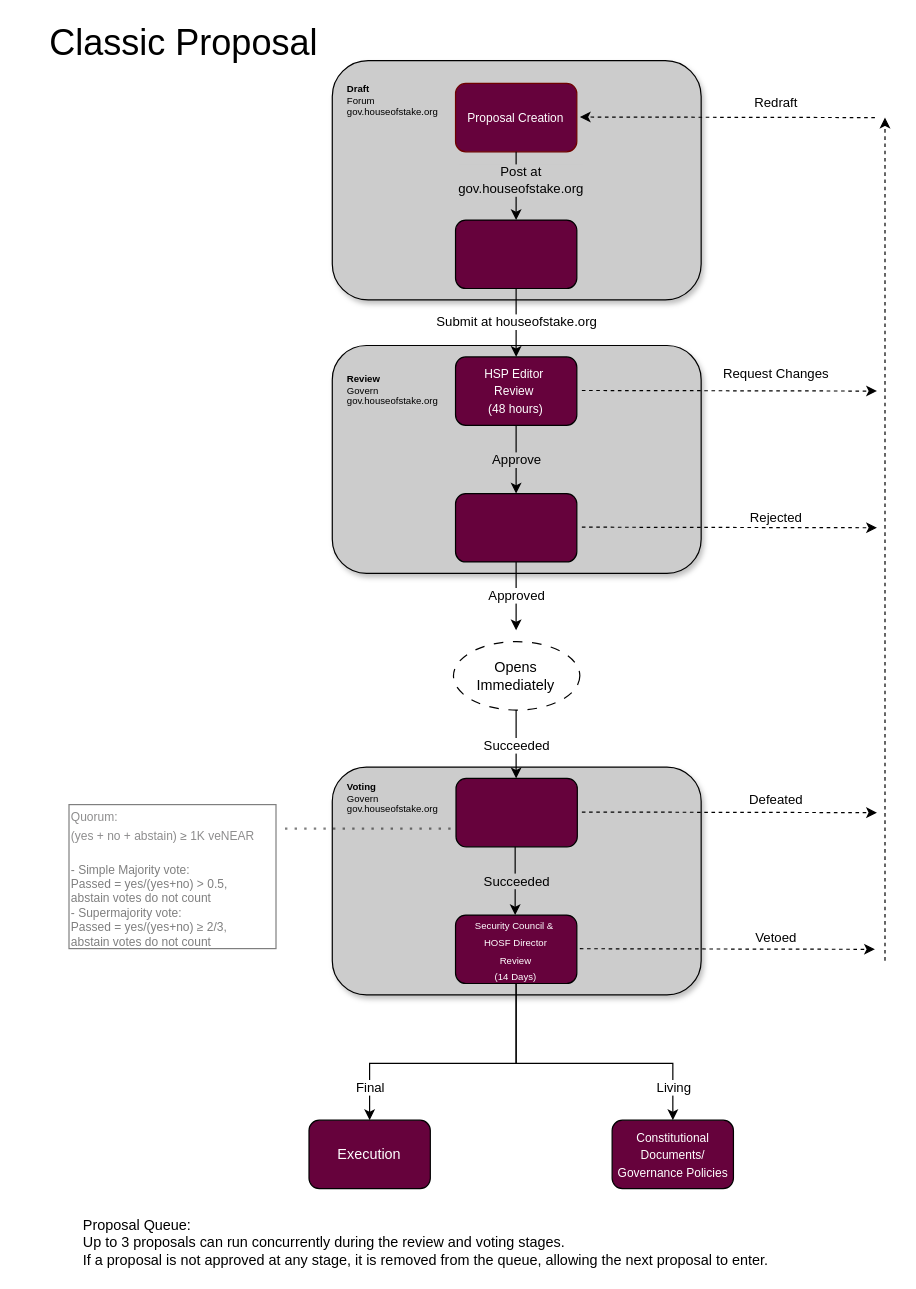
This 916x1289 diagram has some shape labels left out. Each missing label, with the centre of its shape:
"Community Feedback & Review (Min 7 days)" goes at pixel 515 253.
"Screening Committee Review (7 Days)" goes at pixel 515 527.
"Token Holder Vote (14 Days)" goes at pixel 516 812.
